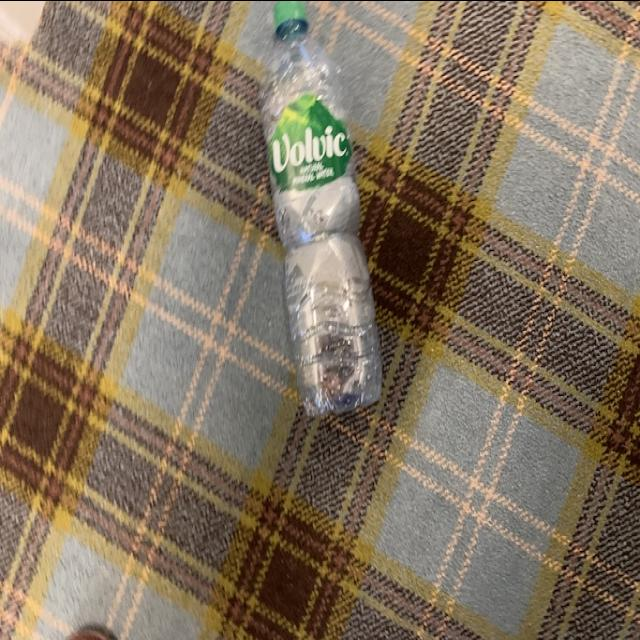litter: (257, 0, 383, 420)
